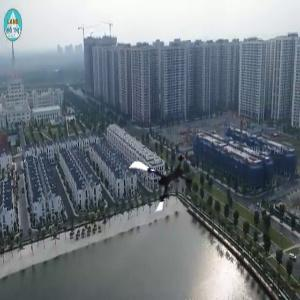drone: (133, 150, 198, 215)
